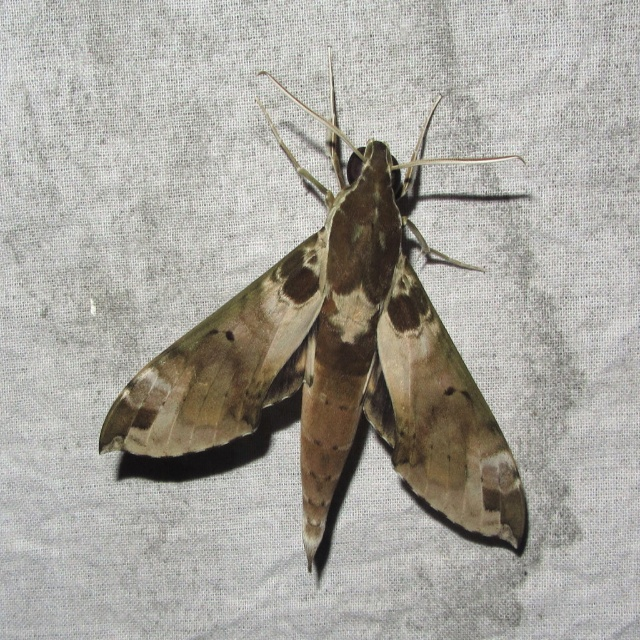Moths and butterflies: (95, 39, 530, 577)
